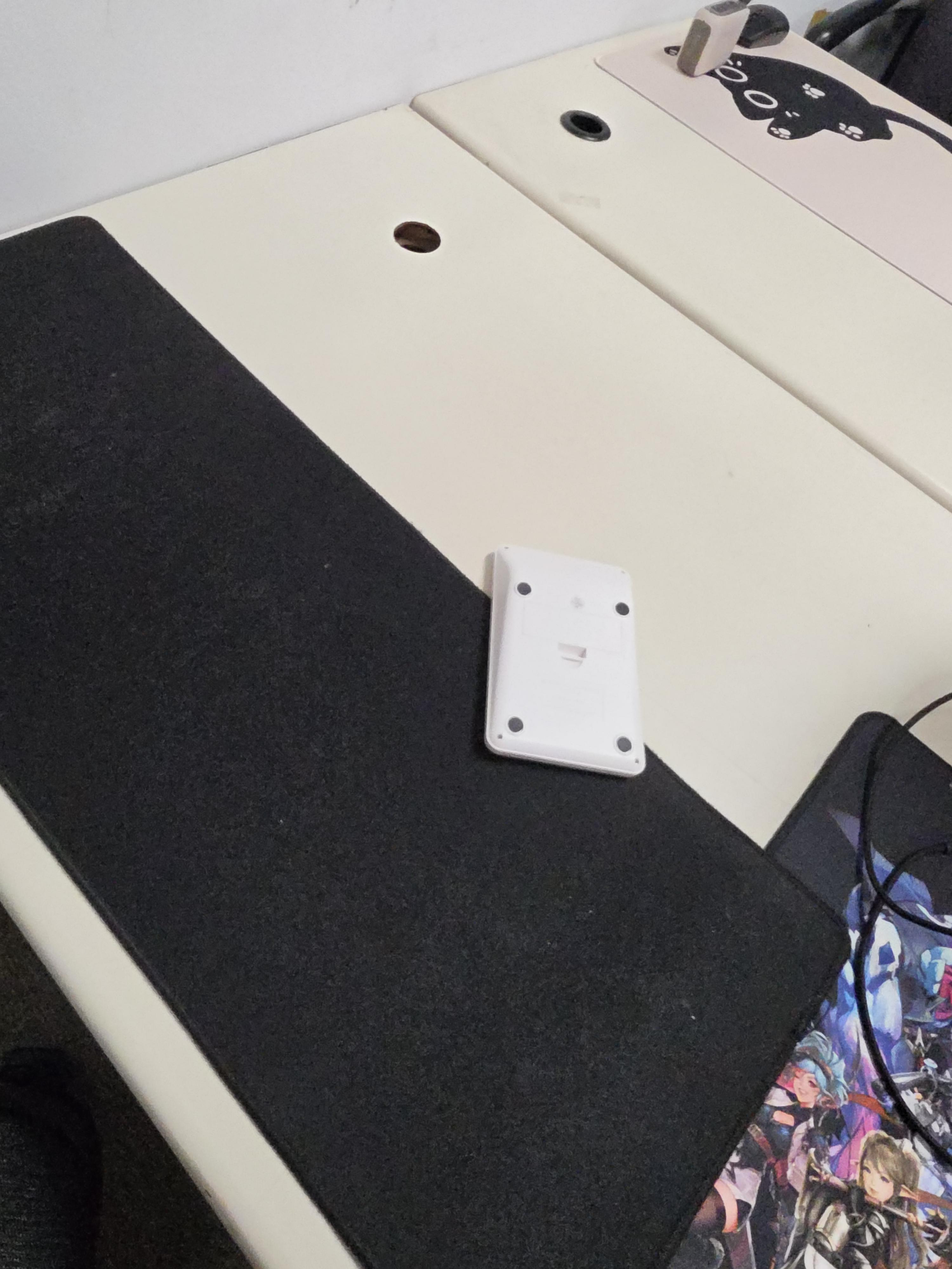calculator: (483, 545, 647, 777)
